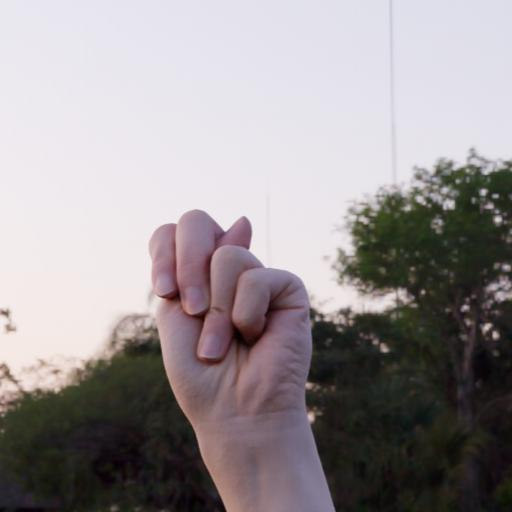N: (131, 202, 342, 450)
